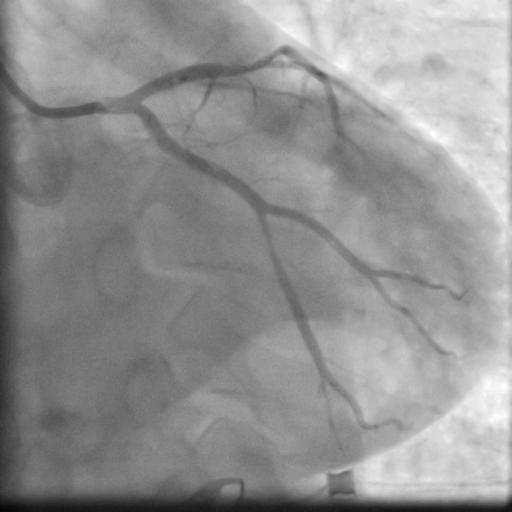Stenosis: (259, 220, 281, 273)
